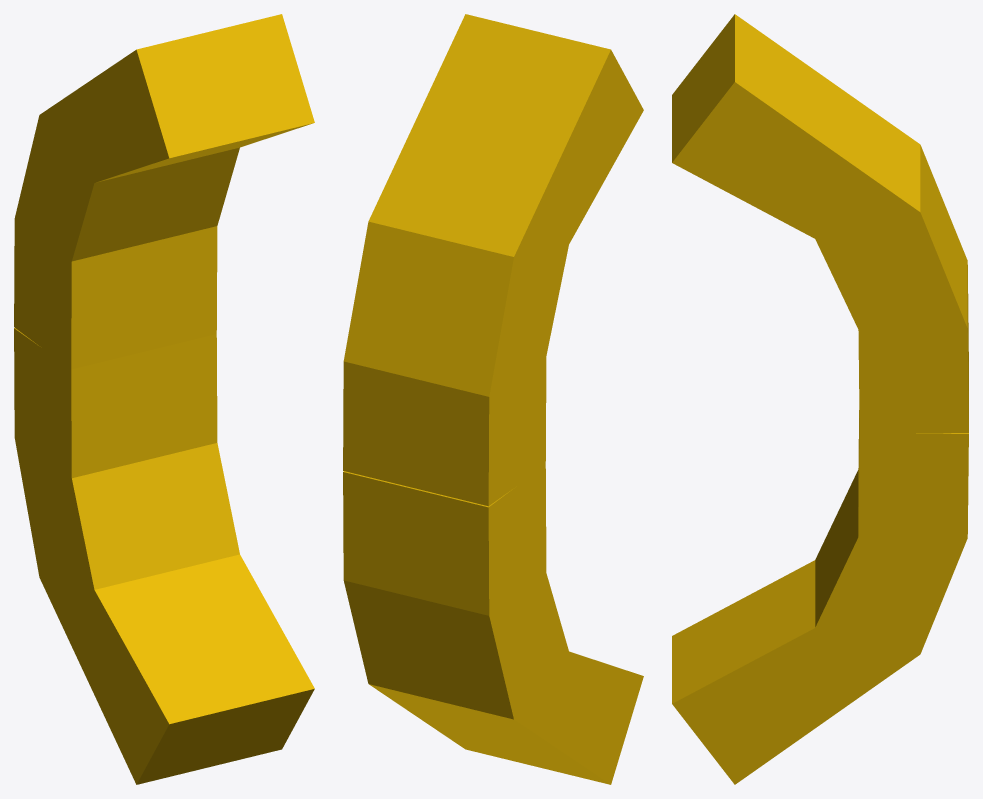
File: Unit567KeyPart3.fbx
The picture shows the model from 3 angles, left to right: view 1: azimuth 30°, elevation 25°; view 2: azimuth 150°, elevation 25°; view 3: azimuth 270°, elevation 25°; orthographic projection. The views are drawn at different scales.
Parts seen in each view (by area): view 1: Cube; view 2: Cube; view 3: Cube.
Part boxes in pixels (x1,y1,x2,y2): Cube: (14, 14, 314, 784); Cube: (343, 14, 643, 784); Cube: (672, 14, 968, 784).
Size of the model in its own units: 27.93 by 135 by 51.6.
